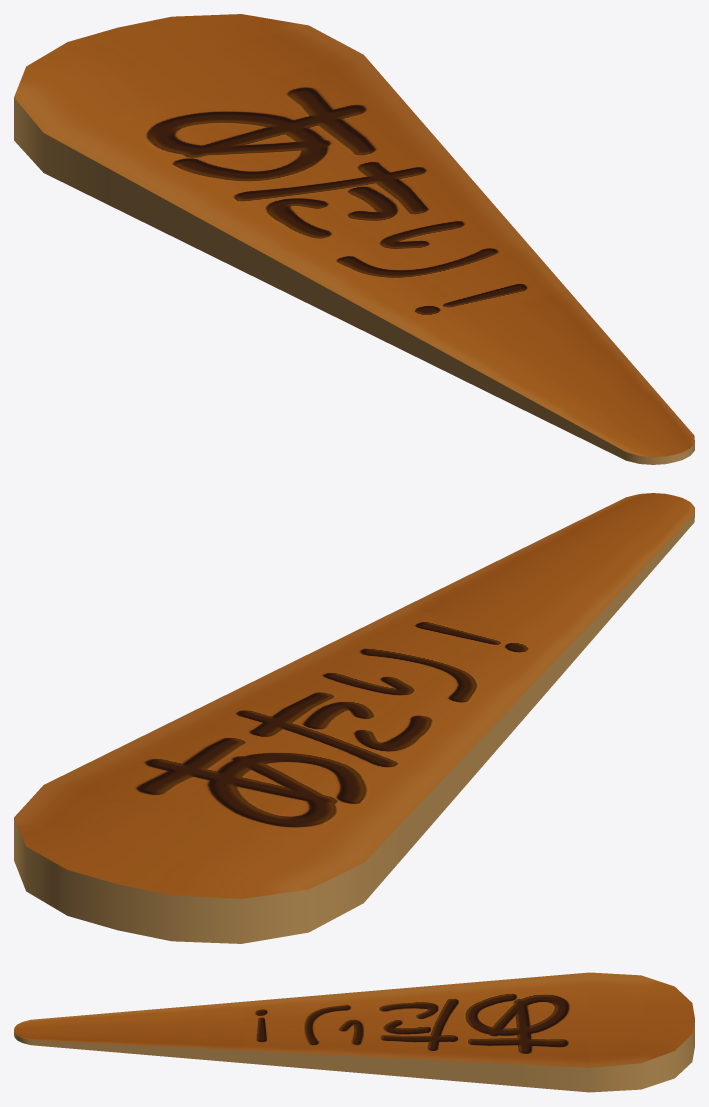
Rendered from atari_bar01.fbx.
3 renders of one model, top to bottom at view 1: azimuth 30°, elevation 25°; view 2: azimuth 150°, elevation 25°; view 3: azimuth 270°, elevation 25°, orthographic. The views are drawn at different scales.
Parts seen in each view (by area): view 1: atari_bar_model; view 2: atari_bar_model; view 3: atari_bar_model.
Boxes of the visible parts, <box> form: atari_bar_model: <box>14,14,694,464</box>; atari_bar_model: <box>14,493,694,943</box>; atari_bar_model: <box>14,972,694,1092</box>.
Bounding box in the file's own units: 10.06 × 1.38 × 30.32.
